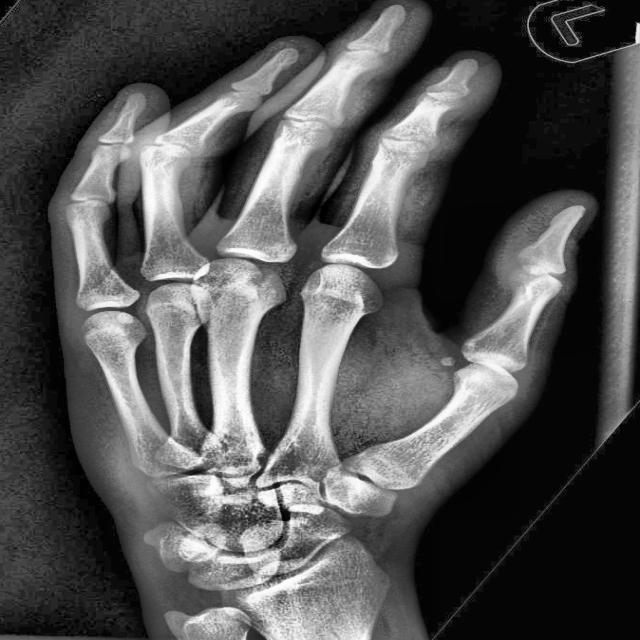fracture: (246, 266, 279, 317)
